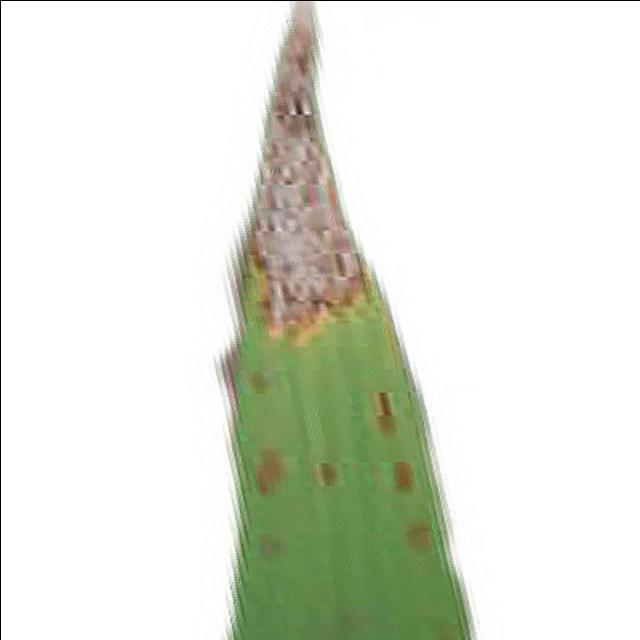Leaf scald: (172, 0, 530, 640)
